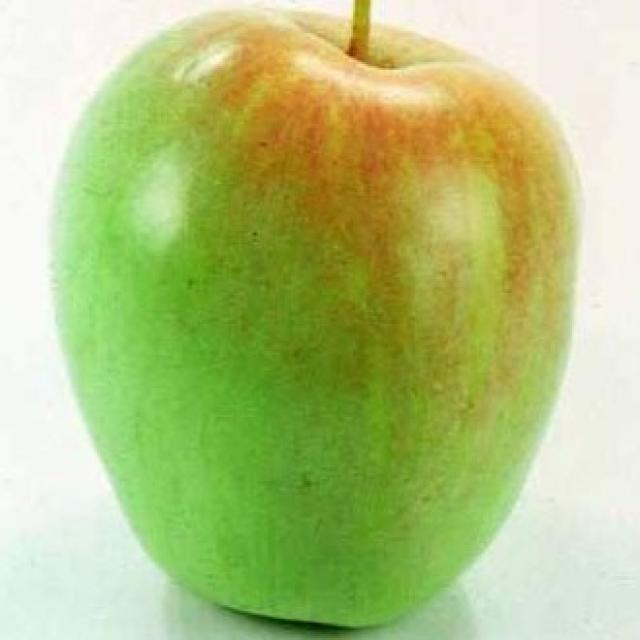apple: (53, 9, 577, 625)
